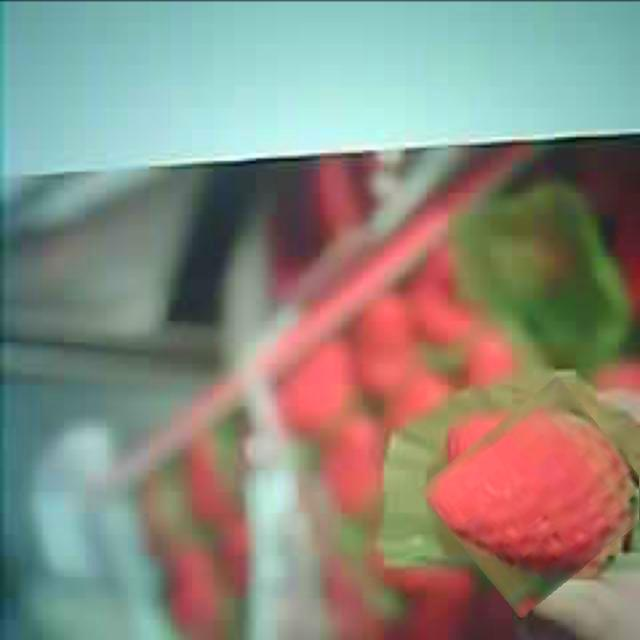strawberry: (433, 394, 640, 598)
